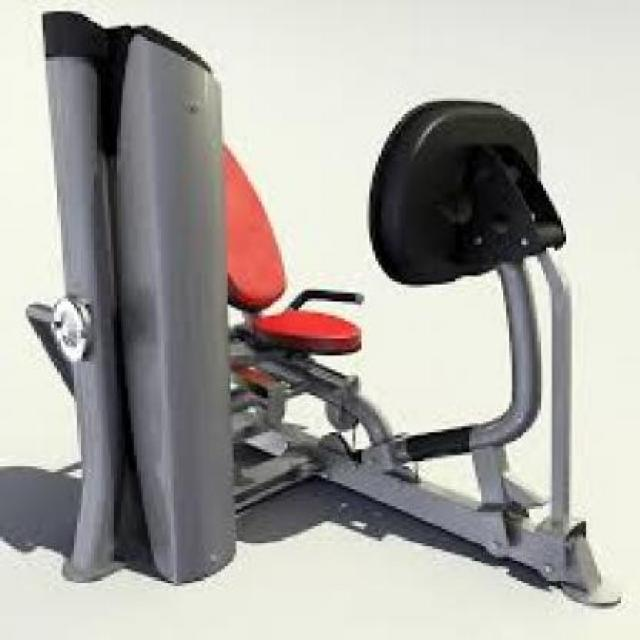leg press: (23, 3, 640, 626)
